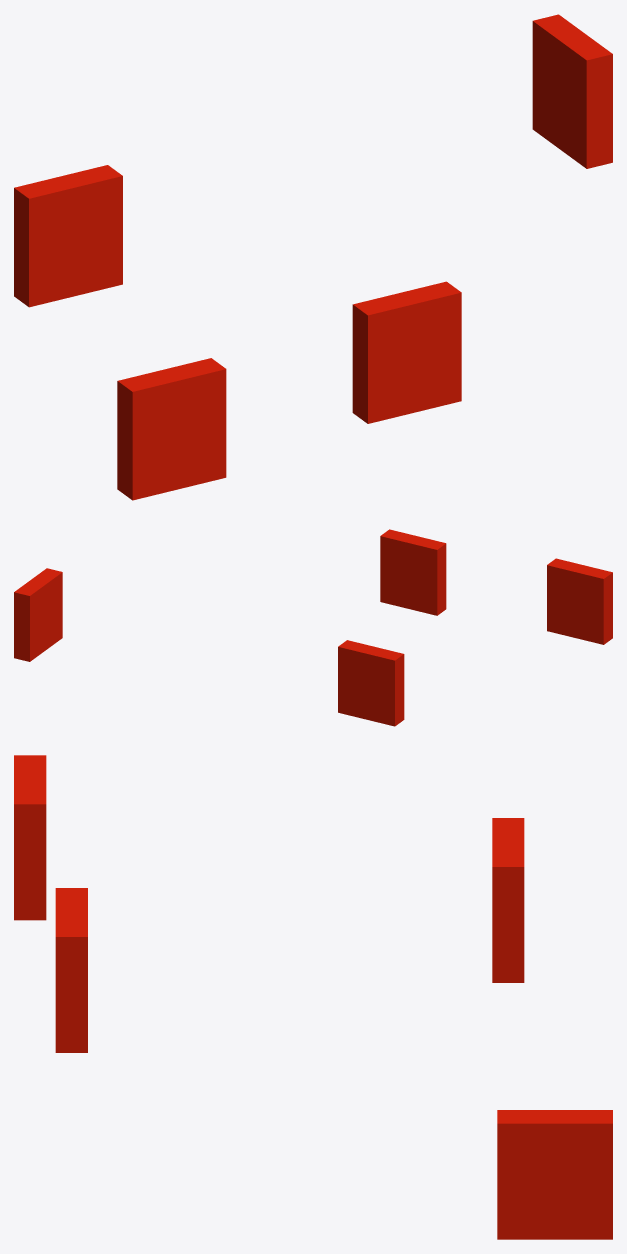
Rendered from RED_DOORS.glb.
The picture shows the model from 3 angles, top to bottom: view 1: azimuth 30°, elevation 25°; view 2: azimuth 150°, elevation 25°; view 3: azimuth 270°, elevation 25°; orthographic projection. The views are drawn at different scales.
Parts seen in each view (by area): view 1: WALLSRED; view 2: WALLSRED; view 3: WALLSRED.
Part boxes in pixels (x1,y1,x2,y2): WALLSRED: [14, 14, 612, 500]; WALLSRED: [14, 529, 612, 726]; WALLSRED: [14, 755, 612, 1239].
Bounding box in the file's own units: 26.99 × 3.96 × 18.55.
